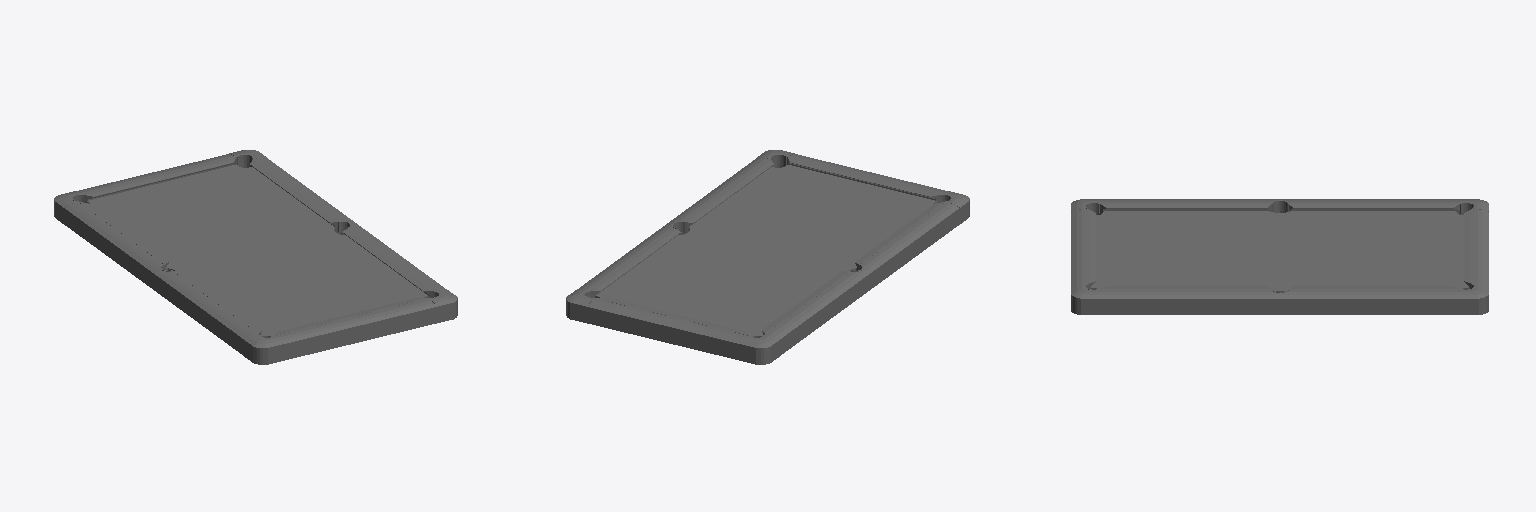
File: b_table_T3.obj
The picture shows the model from 3 angles: view 1: azimuth 30°, elevation 25°; view 2: azimuth 150°, elevation 25°; view 3: azimuth 270°, elevation 25°; orthographic projection.
Parts seen in each view (by area): view 1: Mesh; view 2: Mesh; view 3: Mesh.
Boxes of the visible parts, x1,y1,x2,y2 form: Mesh: [54, 150, 457, 364]; Mesh: [566, 150, 969, 364]; Mesh: [1071, 199, 1488, 314].
Size of the model in its own units: 1.62 by 0.147 by 2.87.